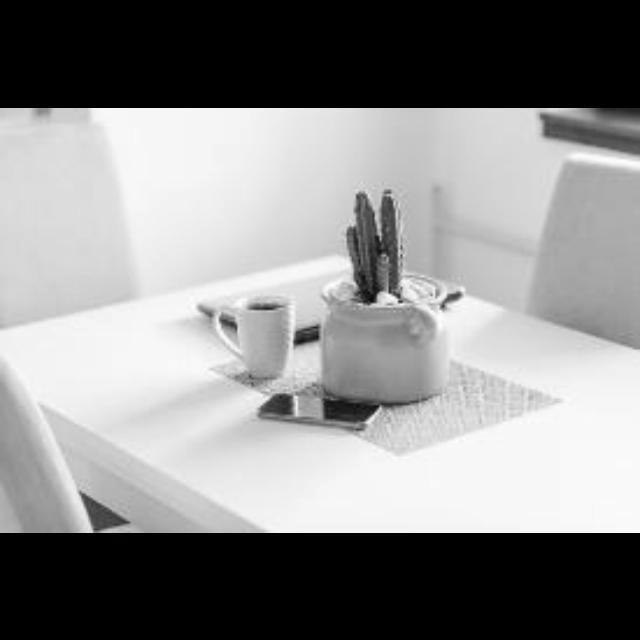fake: (247, 376, 396, 444)
